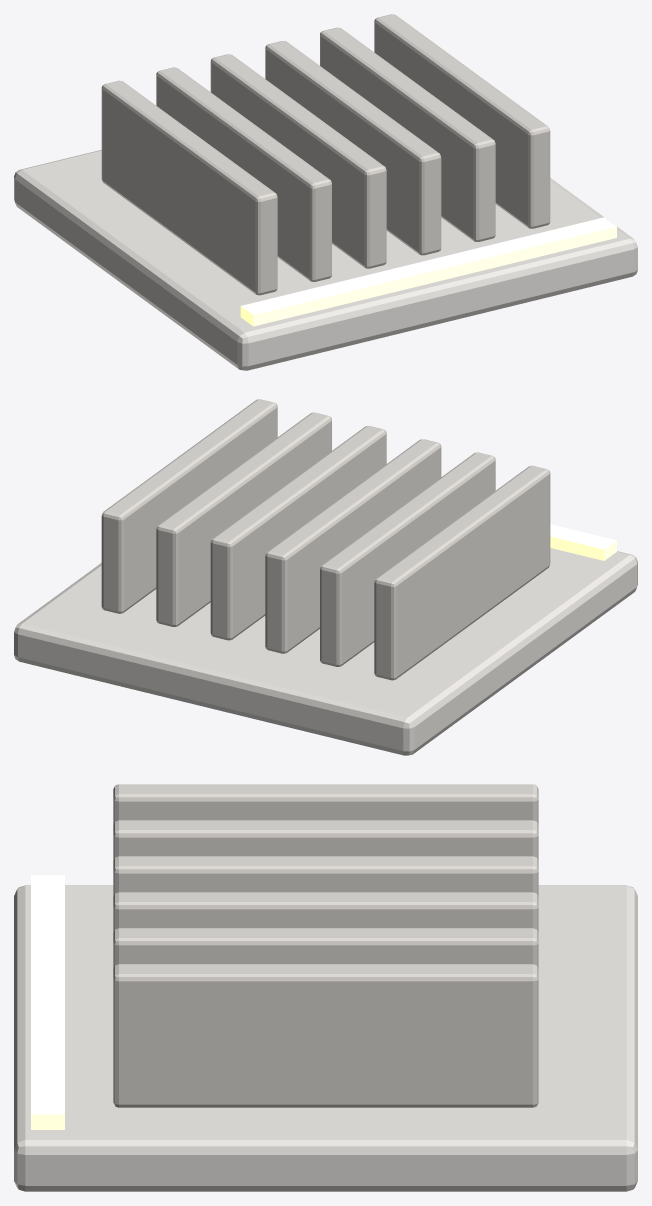
Rendered from topo_comp_service.glb.
The picture shows the model from 3 angles, top to bottom: view 1: azimuth 30°, elevation 25°; view 2: azimuth 150°, elevation 25°; view 3: azimuth 270°, elevation 25°; orthographic projection. The views are drawn at different scales.
Visible parts, largest first — view 1: TOPO_COMP_SERVICE; view 2: TOPO_COMP_SERVICE; view 3: TOPO_COMP_SERVICE.
Boxes of the visible parts, x1,y1,x2,y2 form: TOPO_COMP_SERVICE: (14, 14, 637, 370); TOPO_COMP_SERVICE: (14, 399, 637, 755); TOPO_COMP_SERVICE: (14, 784, 637, 1191).
Bounding box in the file's own units: 0.22 × 0.072 × 0.22.
